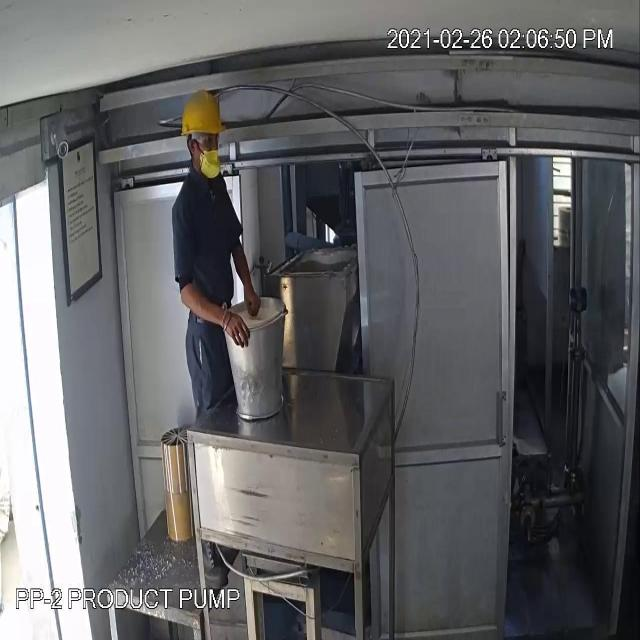helmet: (177, 86, 233, 146)
